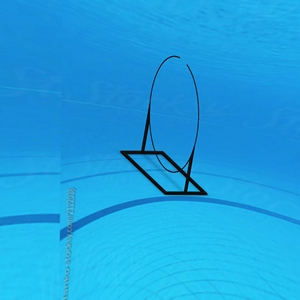circle: (120, 48, 210, 199)
